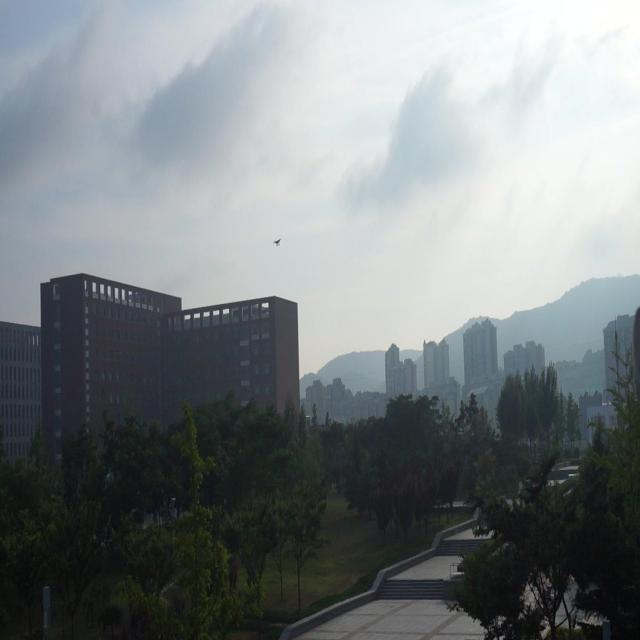UAV: (272, 238, 282, 247)
